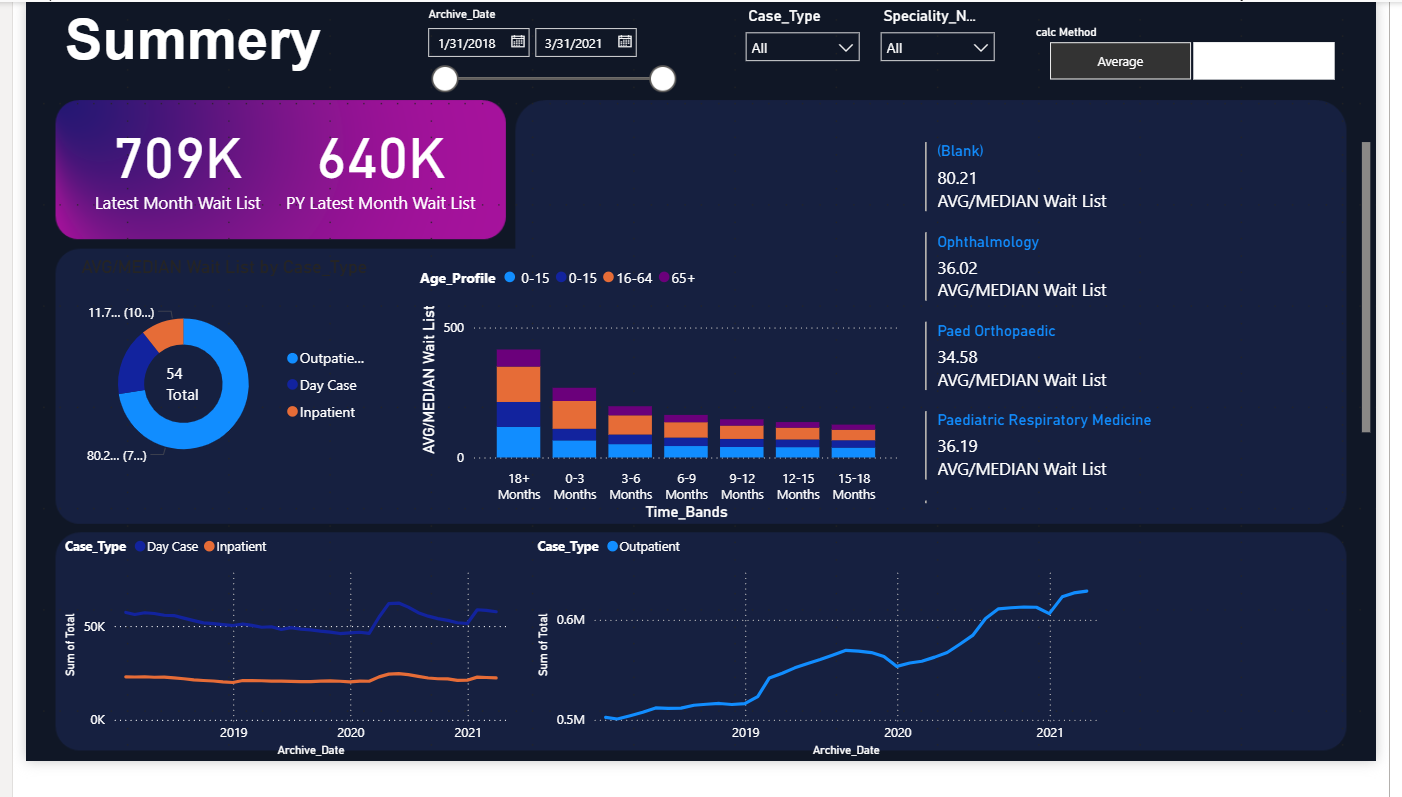

The dashboard page shown, as its layout file describes it:
{"tool":"powerbi","page":{"name":"SUMMERY","canvas":[1280,720],"ordinal":0},"visuals":[{"type":"card","fields":{"Values":["All_Data.Latest Month Wait List"]},"box":[32,96,224,112],"z":0},{"type":"card","fields":{"Values":["All_Data.PY Latest Month Wait List"]},"box":[240,96,192,112],"z":1000},{"type":"slicer","fields":{"Values":["Calculation Method.calc Method"]},"box":[944,16,320,64],"z":2000},{"type":"donutChart","fields":{"Category":["All_Data.Case_Type"],"Y":["All_Data.AVG/MEDIAN Wait List"]},"box":[48,240,288,224],"z":3000},{"type":"columnChart","fields":{"Y":["All_Data.AVG/MEDIAN Wait List"],"Category":["All_Data.Time_Bands"],"Series":["All_Data.Age_Profile"]},"box":[368,240,464,256],"z":4000},{"type":"multiRowCard","fields":{"Values":["All_Data.Specialty_Name","All_Data.AVG/MEDIAN Wait List"]},"box":[848,128,432,352],"z":5000},{"type":"lineChart","fields":{"Category":["All_Data.Archive_Date"],"Y":["Sum(All_Data.Total)"],"Series":["All_Data.Case_Type"]},"box":[32,496,432,224],"z":6000},{"type":"lineChart","fields":{"Category":["All_Data.Archive_Date"],"Y":["Sum(All_Data.Total)"],"Series":["All_Data.Case_Type"]},"box":[480,496,544,224],"z":7000},{"type":"slicer","fields":{"Values":["All_Data.Archive_Date"]},"box":[368,0,256,96],"z":8000},{"type":"slicer","fields":{"Values":["All_Data.Case_Type"]},"box":[672,0,128,96],"z":9000},{"type":"textbox","box":[32,0,272,96],"z":10000},{"type":"slicer","fields":{"Values":["All_Data.Speciality_Name"]},"box":[800,0,128,96],"z":11000},{"type":"textbox","box":[128,336,48,80],"z":12000}]}

Visuals, with their boxes in screenshot pixels (x1, y1, x2, y2), scaled from the page's 1280x720 canvas onto the 1402x797 screenshot:
card - All_Data.Latest Month Wait List: {"x1": 35, "y1": 106, "x2": 280, "y2": 230}
card - All_Data.PY Latest Month Wait List: {"x1": 263, "y1": 106, "x2": 473, "y2": 230}
slicer - Calculation Method.calc Method: {"x1": 1034, "y1": 18, "x2": 1384, "y2": 89}
donutChart - All_Data.Case_Type x All_Data.AVG/MEDIAN Wait List: {"x1": 53, "y1": 266, "x2": 368, "y2": 514}
columnChart - All_Data.AVG/MEDIAN Wait List x All_Data.Time_Bands: {"x1": 403, "y1": 266, "x2": 911, "y2": 549}
multiRowCard - All_Data.Specialty_Name x All_Data.AVG/MEDIAN Wait List: {"x1": 929, "y1": 142, "x2": 1401, "y2": 531}
lineChart - All_Data.Archive_Date x Sum(All_Data.Total): {"x1": 35, "y1": 549, "x2": 508, "y2": 796}
lineChart - All_Data.Archive_Date x Sum(All_Data.Total): {"x1": 526, "y1": 549, "x2": 1122, "y2": 796}
slicer - All_Data.Archive_Date: {"x1": 403, "y1": 0, "x2": 683, "y2": 106}
slicer - All_Data.Case_Type: {"x1": 736, "y1": 0, "x2": 876, "y2": 106}
textbox: {"x1": 35, "y1": 0, "x2": 333, "y2": 106}
slicer - All_Data.Speciality_Name: {"x1": 876, "y1": 0, "x2": 1016, "y2": 106}
textbox: {"x1": 140, "y1": 372, "x2": 193, "y2": 460}
